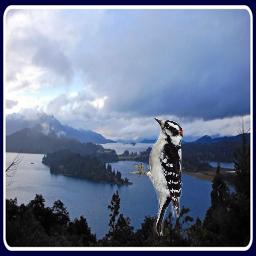Woodpecker: (128, 116, 184, 236)
